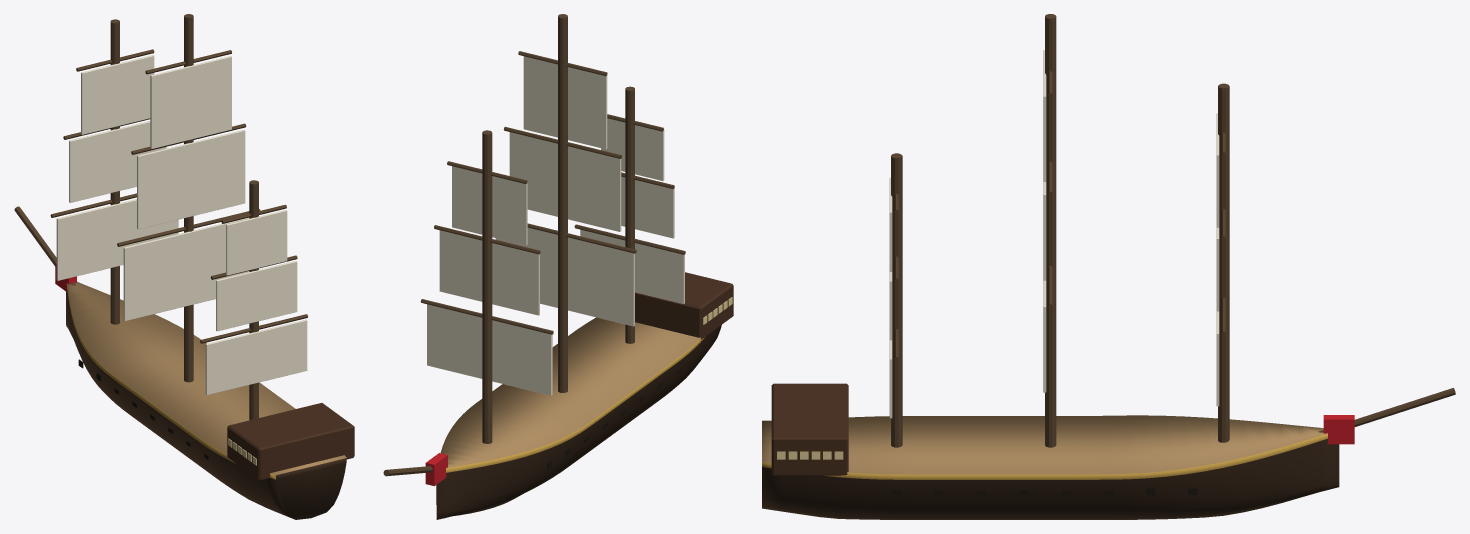
Rendered from ship.glb.
The picture shows the model from 3 angles, left to right: view 1: azimuth 30°, elevation 25°; view 2: azimuth 150°, elevation 25°; view 3: azimuth 270°, elevation 25°; orthographic projection. The views are drawn at different scales.
Parts seen in each view (by area): view 1: hull, Cube.017, Cube.016, Cube, Cube.018, Cube.019, Cube.013, Cube.014, Cube.015, Cube.020, Cube.021, Cylinder.004 (+5 smaller); view 2: hull, Cube.013, Cube.017, Cube.016, Cube.014, Cube.018, Cube.015, Cube, Cylinder.004, Cylinder, Cube.019, Cube.020 (+8 smaller); view 3: hull, Cube, Cylinder.004, Cylinder, Cylinder.008, Cube.022, Cylinder.012.
Part boxes in pixels (<box>): hull: <box>66,281,346,519</box>; Cube.017: <box>137,129,245,229</box>; Cube.016: <box>123,217,249,321</box>; Cube: <box>227,403,354,480</box>; Cube.018: <box>150,56,231,148</box>; Cube.019: <box>205,319,307,394</box>; Cube.013: <box>56,199,178,280</box>; Cube.014: <box>69,121,166,202</box>; Cube.015: <box>81,55,154,134</box>; Cube.020: <box>216,261,297,331</box>; Cube.021: <box>226,210,287,275</box>; Cylinder.004: <box>184,14,193,382</box>; hull: <box>436,317,721,519</box>; Cube.013: <box>427,304,552,395</box>; Cube.017: <box>509,132,621,231</box>; Cube.016: <box>495,227,634,326</box>; Cube.014: <box>439,230,539,315</box>; Cube.018: <box>523,56,607,149</box>; Cube.015: <box>452,166,527,245</box>; Cube: <box>635,272,733,339</box>; Cylinder.004: <box>558,14,567,392</box>; Cylinder: <box>482,130,492,443</box>; Cube.019: <box>580,229,684,304</box>; Cube.020: <box>621,176,674,238</box>; hull: <box>762,415,1339,519</box>; Cube: <box>771,383,848,475</box>; Cylinder.004: <box>1045,14,1056,447</box>; Cylinder: <box>1218,83,1229,442</box>; Cylinder.008: <box>891,153,902,447</box>; Cube.022: <box>1323,415,1354,444</box>; Cylinder.012: <box>1318,388,1455,432</box>.
Size of the model in its own units: 10 by 28.3 by 36.07.
